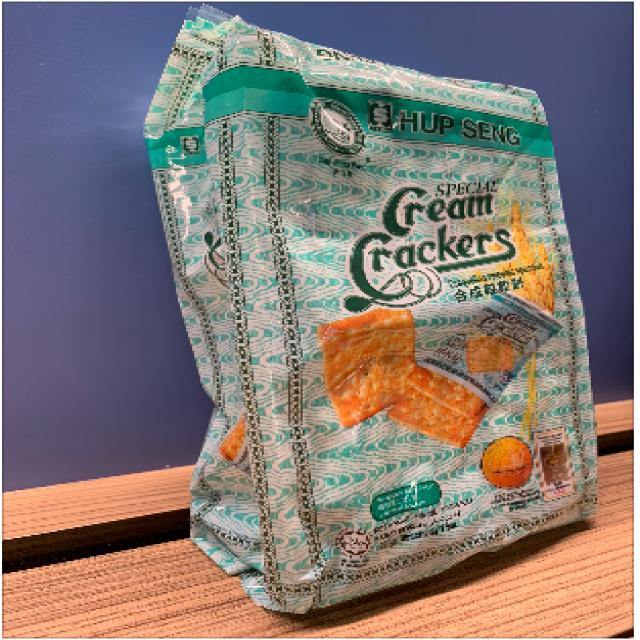object_name: (207, 39, 585, 539)
